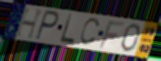C: (78, 18, 101, 48)
F: (98, 20, 126, 49)
H: (14, 7, 45, 41)
L: (59, 13, 76, 46)
O: (119, 23, 141, 54)
P: (34, 9, 60, 42)
